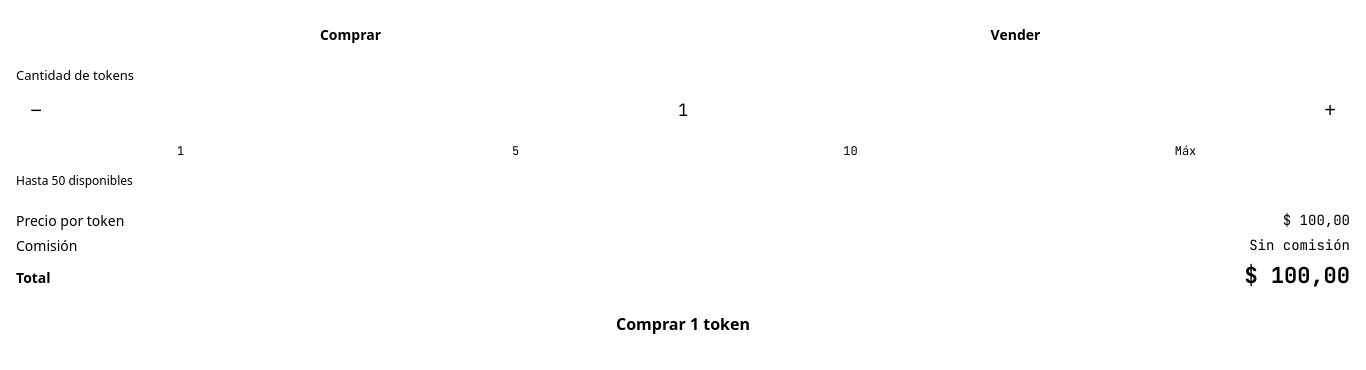
it: TradePanel › en modo Vender, muestra el precio con el 15% de descuento sobre la cotización vigente
The image size is (1366, 370).
Click the tab "Vender" at (1016, 34), box [685,16,1346,52]
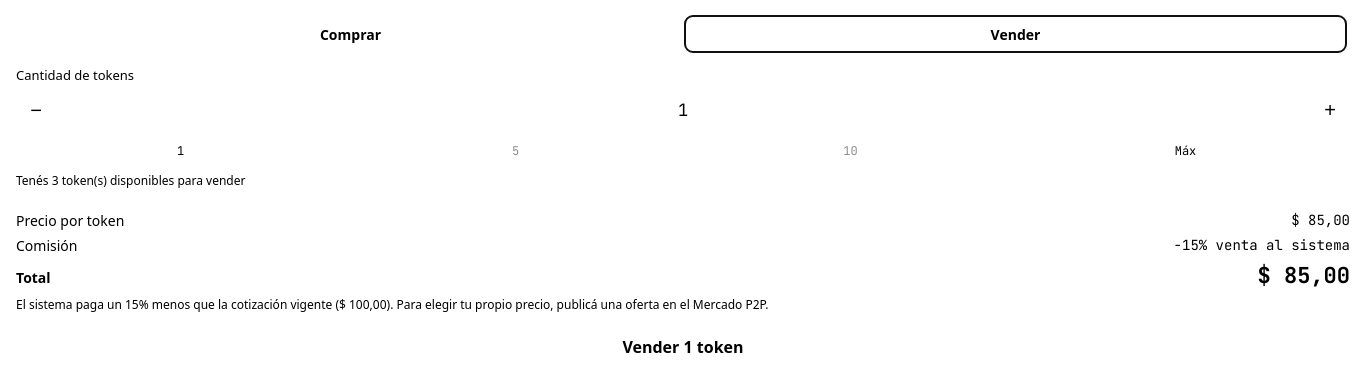
Expected: the text "$ 85,00" is shown 2 times, [1291,211,1350,230]; [1258,261,1350,290]
Now the text "El sistema paga un 15% menos" is shown, box [16,296,768,313]
